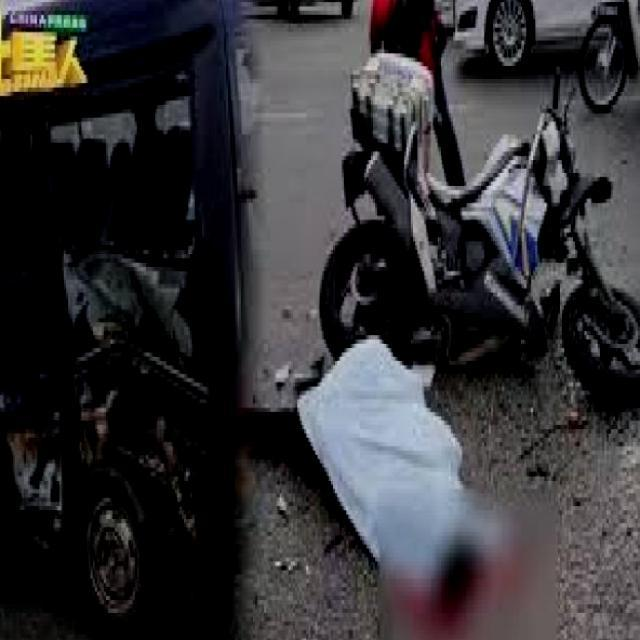accident: (0, 95, 244, 595), (348, 27, 640, 395)
